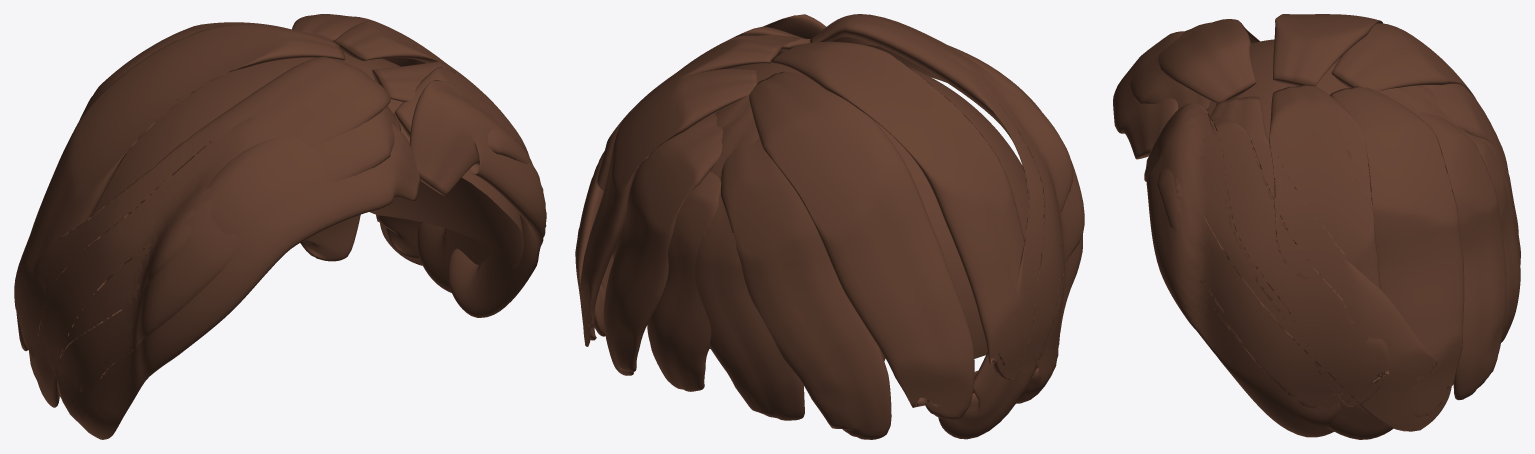
File: Masculine-flow-pashmina261-hair.glb
3 views of the same model, side by side, from view 1: azimuth 30°, elevation 25°; view 2: azimuth 150°, elevation 25°; view 3: azimuth 270°, elevation 25° (orthographic). The views are drawn at different scales.
Visible parts, largest first — view 1: 226 hair / Hair260 / layered flow; view 2: 226 hair / Hair260 / layered flow; view 3: 226 hair / Hair260 / layered flow.
Part boxes in pixels (x1,y1,x2,y2): 226 hair / Hair260 / layered flow: (14,14,546,439); 226 hair / Hair260 / layered flow: (575,14,1084,439); 226 hair / Hair260 / layered flow: (1113,14,1520,439).
Bounding box in the file's own units: 1.07 × 0.7622 × 0.87.
